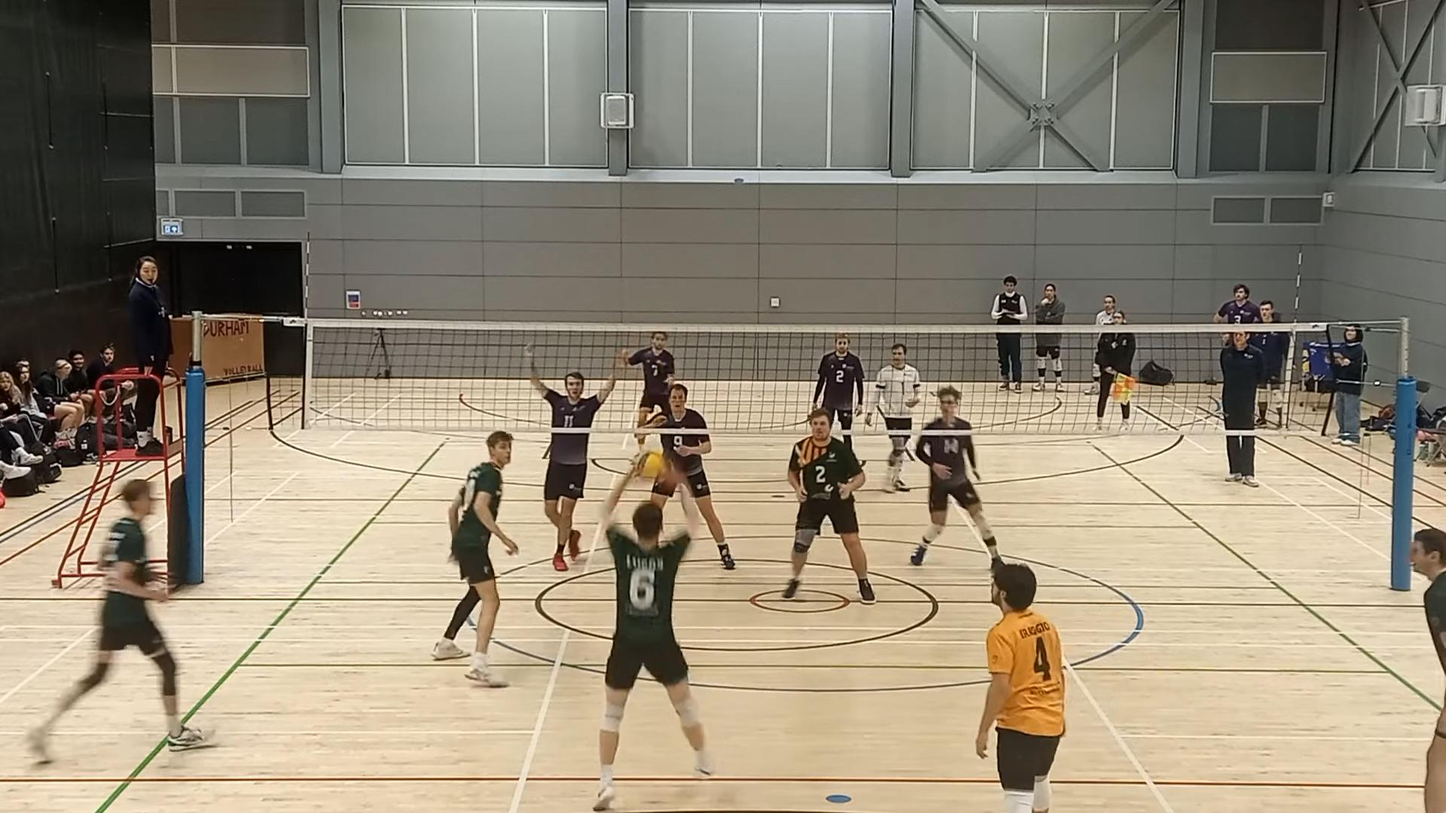ricezione: (600, 480, 700, 791)
